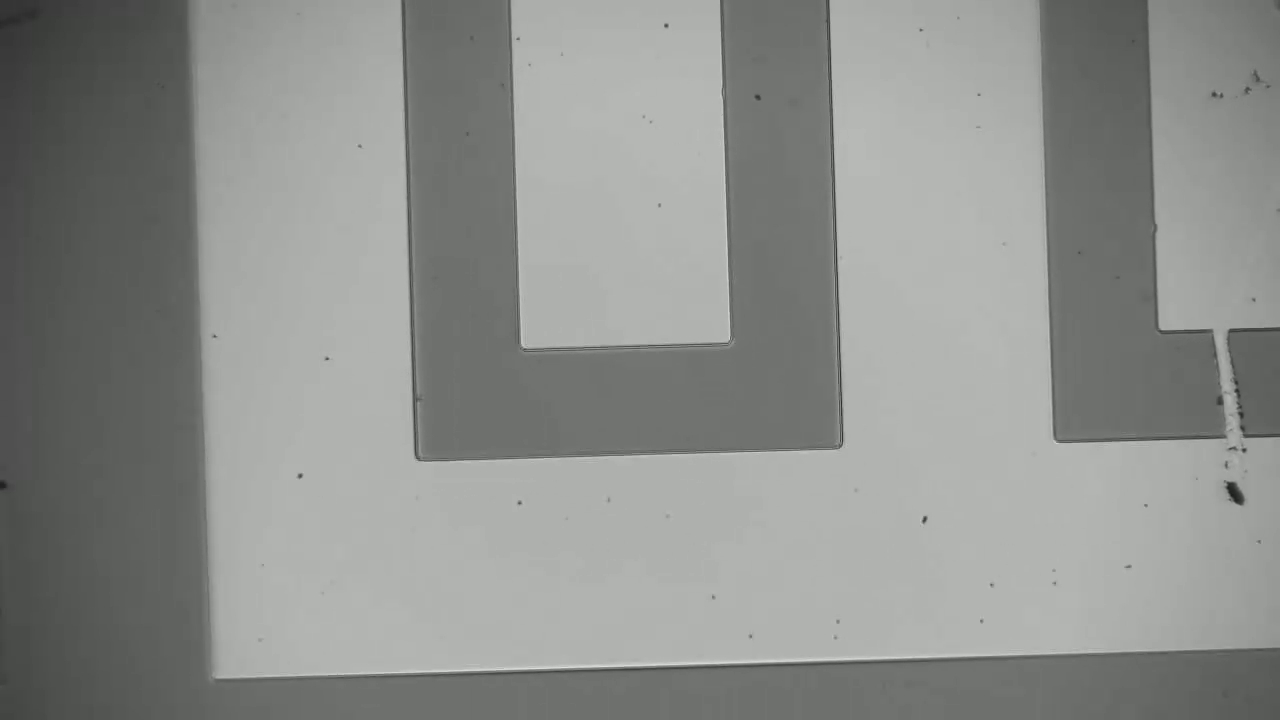Short_circuit: (1201, 312, 1262, 462)
